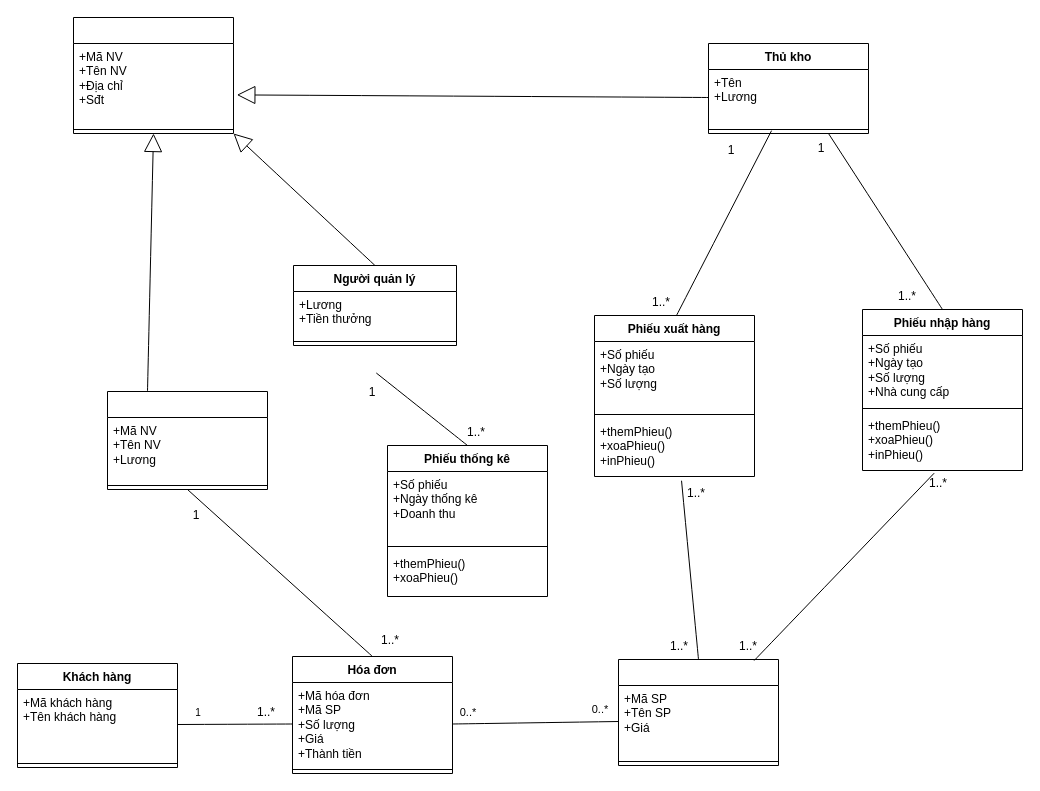
This 1040x791 diagram has some shape labels left out. The shapes that lost their labels are listed below. From the top down, each one's box as (x1, y1, x2, y2) in pixels, then its label:
(72, 16, 234, 134): Nhân viên
(106, 390, 268, 490): Nhân viên bán hàng
(618, 658, 778, 766): Sản phẩm
